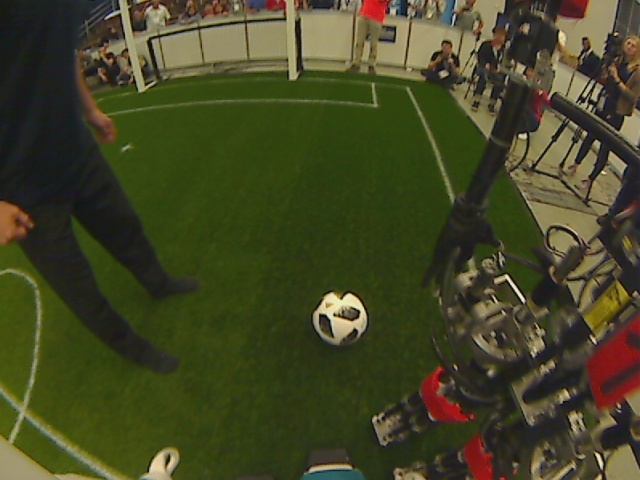ball: (309, 289, 370, 351)
